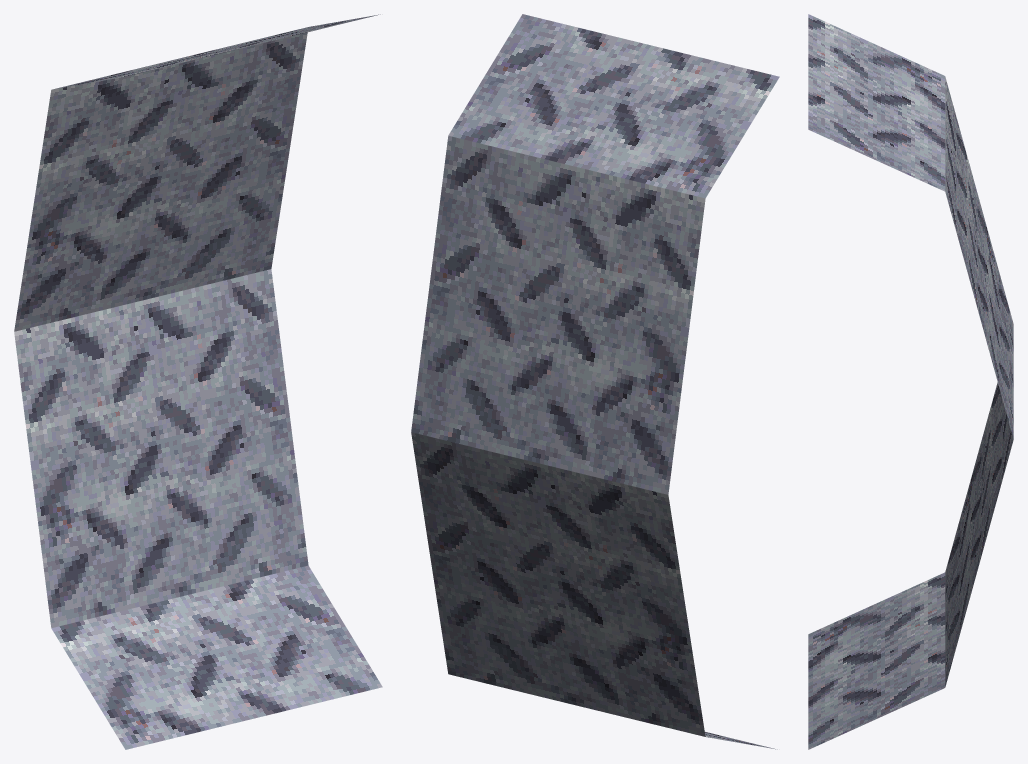
The model's file is corridor_default_photo_texture.glb.
3 views of the same model, side by side, from view 1: azimuth 30°, elevation 25°; view 2: azimuth 150°, elevation 25°; view 3: azimuth 270°, elevation 25° (orthographic). The views are drawn at different scales.
Visible parts, largest first — view 1: Plane; view 2: Plane; view 3: Plane.
Part boxes in pixels (<box>): Plane: <box>14,14,382,749</box>; Plane: <box>411,14,779,749</box>; Plane: <box>808,14,1013,749</box>.
Size of the model in its own units: 2 by 5 by 1.5.
1 material, 1 textured.
